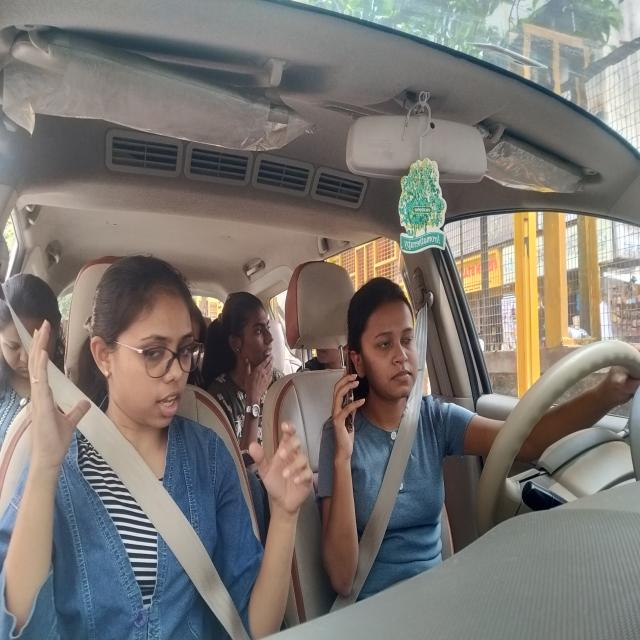mobile: (342, 337, 358, 440)
person: (89, 253, 193, 416), (351, 273, 425, 405), (0, 277, 63, 381), (220, 287, 278, 378)
